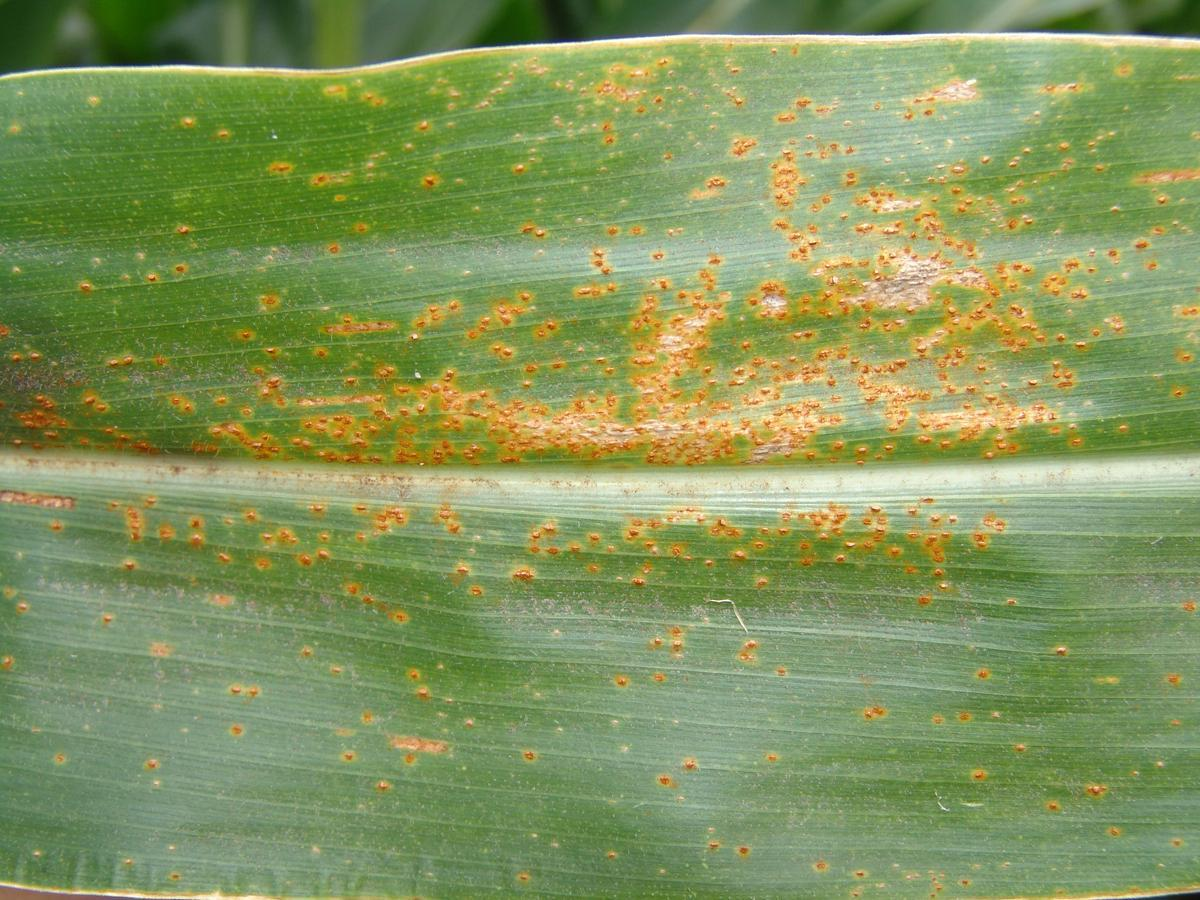Corn_Common_Rust: (241, 364, 1200, 656), (308, 56, 1200, 239), (236, 224, 1200, 366), (0, 275, 258, 671), (715, 619, 1200, 796), (12, 841, 1200, 900), (0, 194, 304, 332), (409, 642, 613, 819), (598, 594, 731, 832), (0, 61, 284, 169), (290, 631, 435, 798), (132, 764, 229, 855), (227, 653, 301, 764), (129, 698, 229, 741), (1045, 811, 1200, 838), (19, 721, 73, 778), (237, 382, 285, 402), (455, 656, 473, 685)
